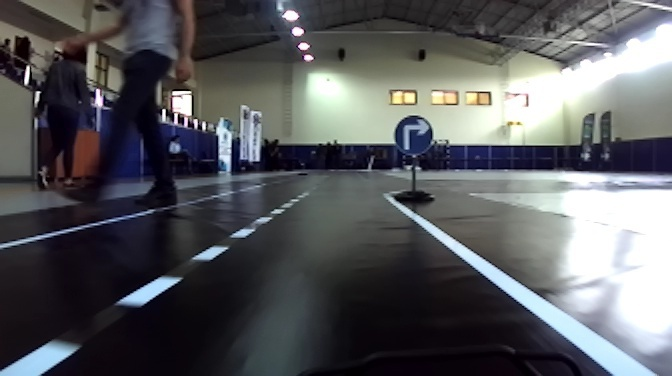saga_donus: (391, 114, 434, 157)
